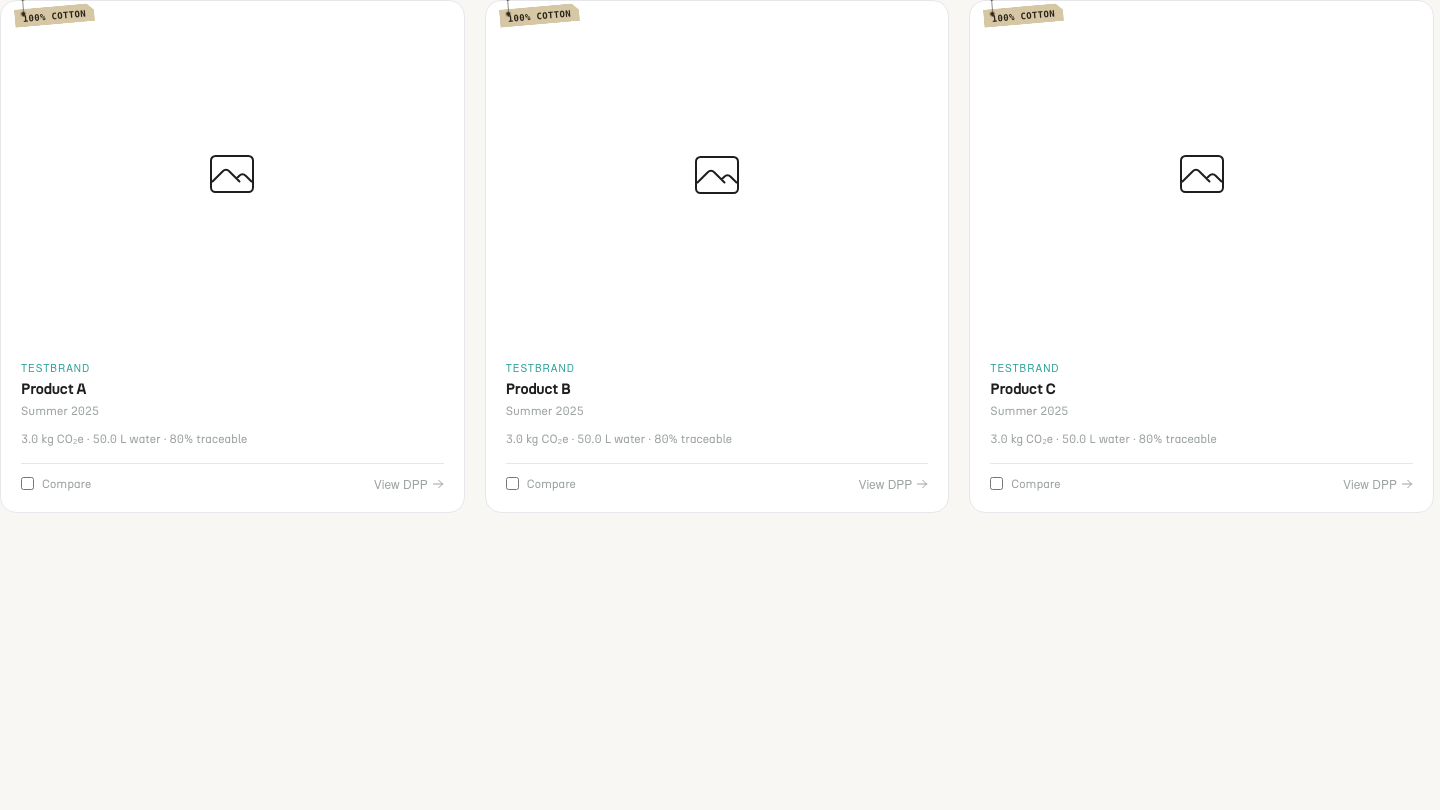
CollectiveBrandGrid › shows compare bar when 2+ products selected
The image size is (1440, 810).
Click the checkbox labelled "Compare" below "Product A" at x=28, y=484, box [21,477,34,490]
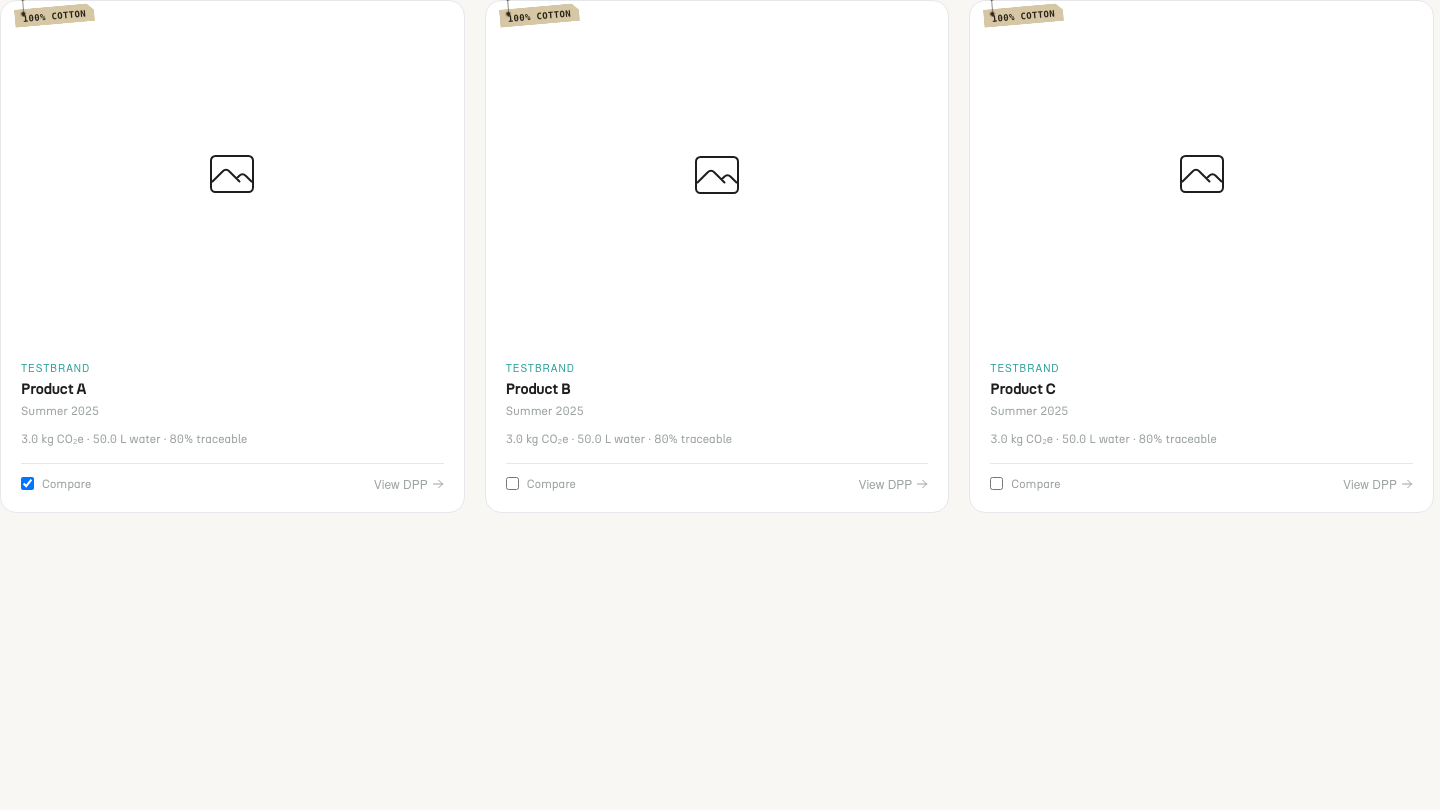
expect the text "2 selected" is not shown: met
Click the checkbox labelled "Compare" below "Product B" at x=512, y=484, box [506,477,519,490]
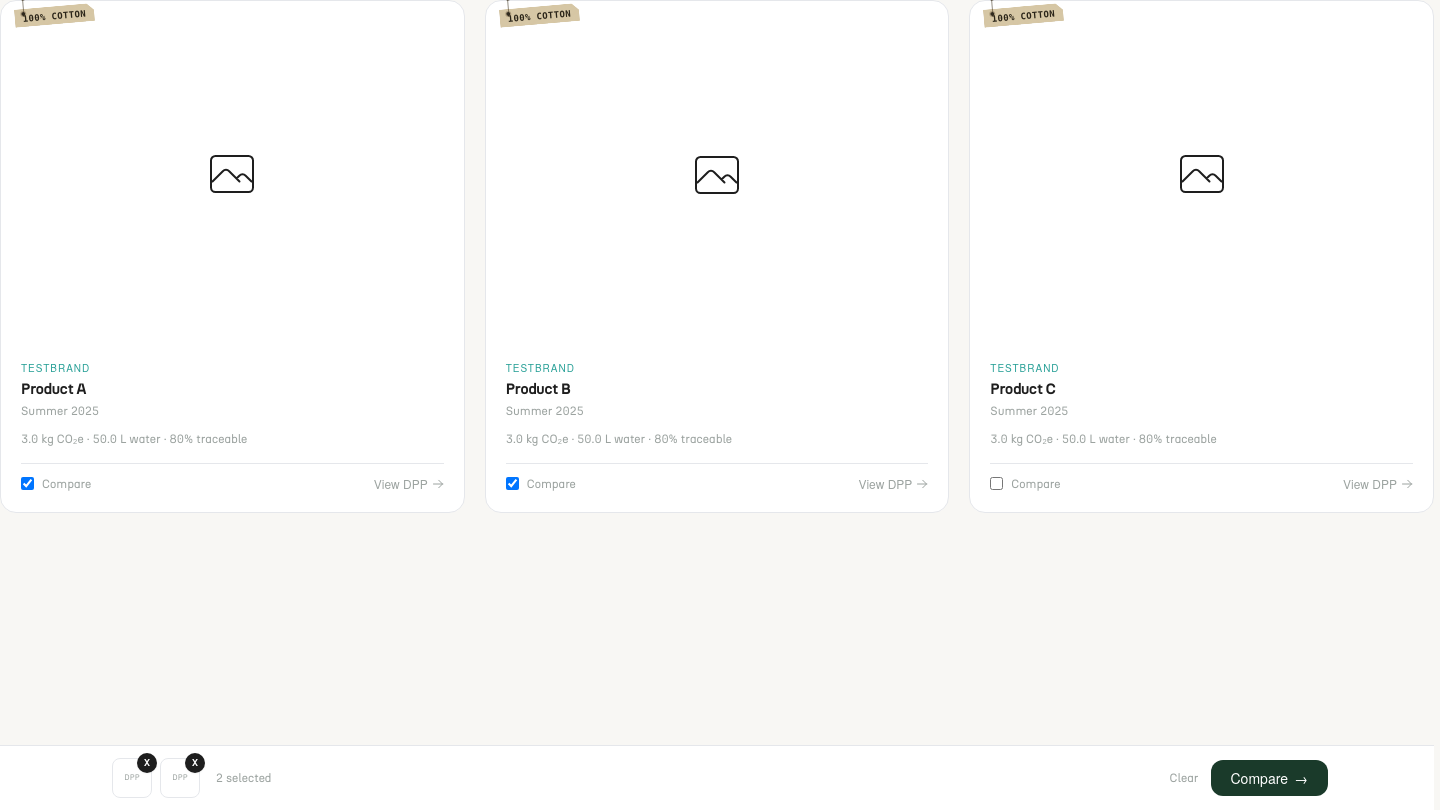
expect the text "2 selected" is shown: met, box [216,770,272,786]
expect the button "Clear" is shown: met, box [1170,770,1198,786]
